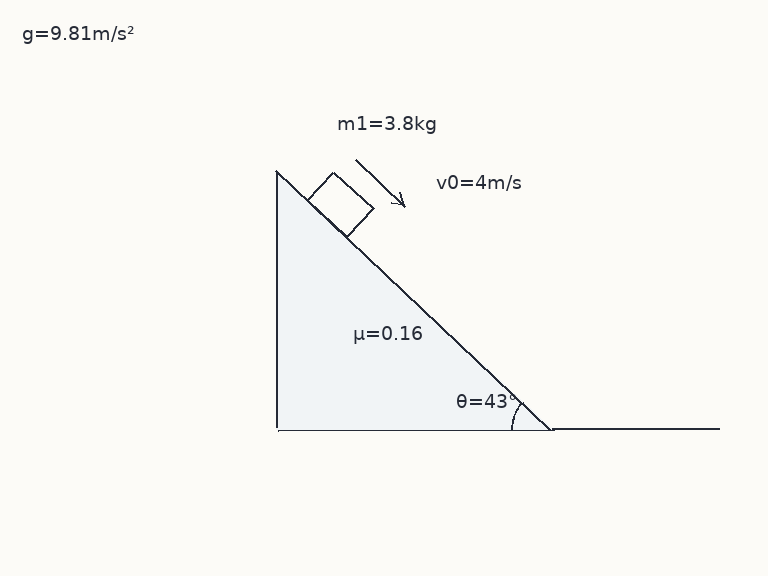block: (305, 170, 375, 239)
ramp: (274, 170, 554, 431)
